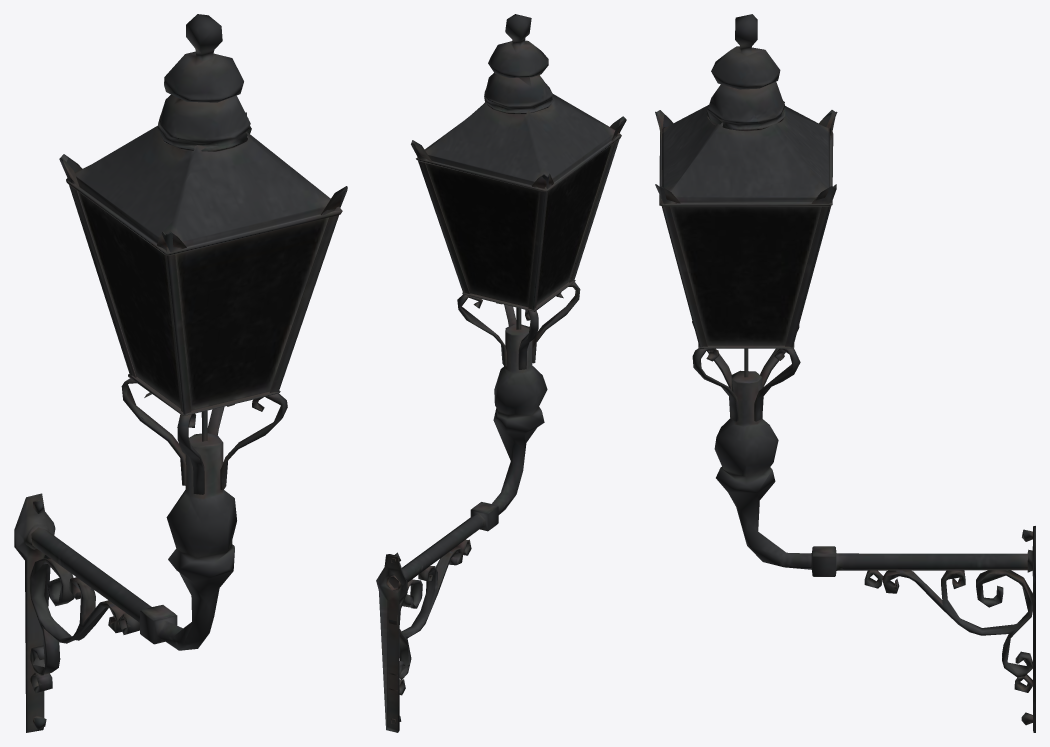
The model's file is street_lamp_02.lod1.glb.
3 views of the same model, side by side, from view 1: azimuth 30°, elevation 25°; view 2: azimuth 150°, elevation 25°; view 3: azimuth 270°, elevation 25° (orthographic). The views are drawn at different scales.
Visible parts, largest first — view 1: street_lamp_02; view 2: street_lamp_02; view 3: street_lamp_02.
Part boxes in pixels (<box>): street_lamp_02: <box>14,14,347,732</box>; street_lamp_02: <box>376,14,626,732</box>; street_lamp_02: <box>655,14,1035,732</box>.
Size of the model in its own units: 0.3865 by 1.67 by 0.8068.
2 materials, 2 textured.
